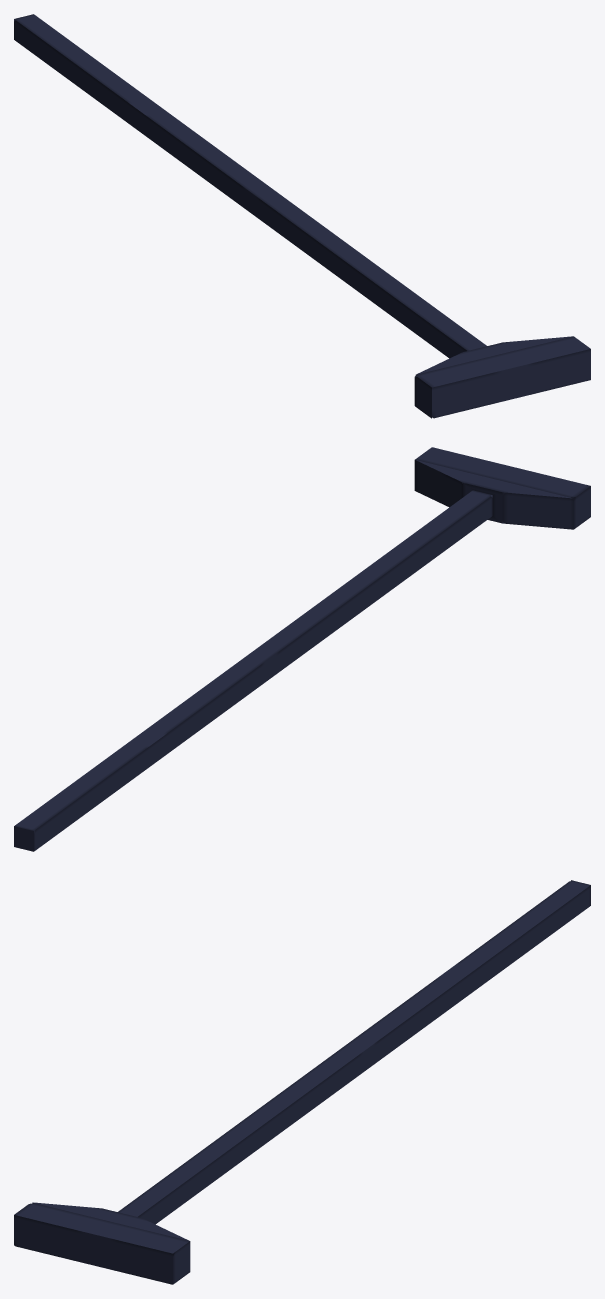
Rendered from rack.obj.
3 views of the same model, one above another, from view 1: azimuth 30°, elevation 25°; view 2: azimuth 150°, elevation 25°; view 3: azimuth 330°, elevation 25° (orthographic).
Parts seen in each view (by area): view 1: cuboid; view 2: cuboid; view 3: cuboid.
Part boxes in pixels (x1,y1,x2,y2): cuboid: (14,14,590,418); cuboid: (14,447,590,851); cuboid: (14,880,590,1284).
Bounding box in the file's own units: 0.2 × 0.0375 × 1.06.
Materials: 1 (1 with a texture image).
